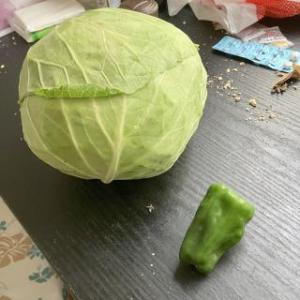cabbage: (17, 8, 209, 186)
